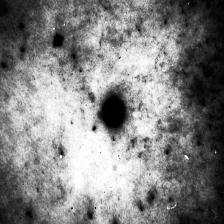Benign Marking or Mole: (98, 92, 129, 130)
